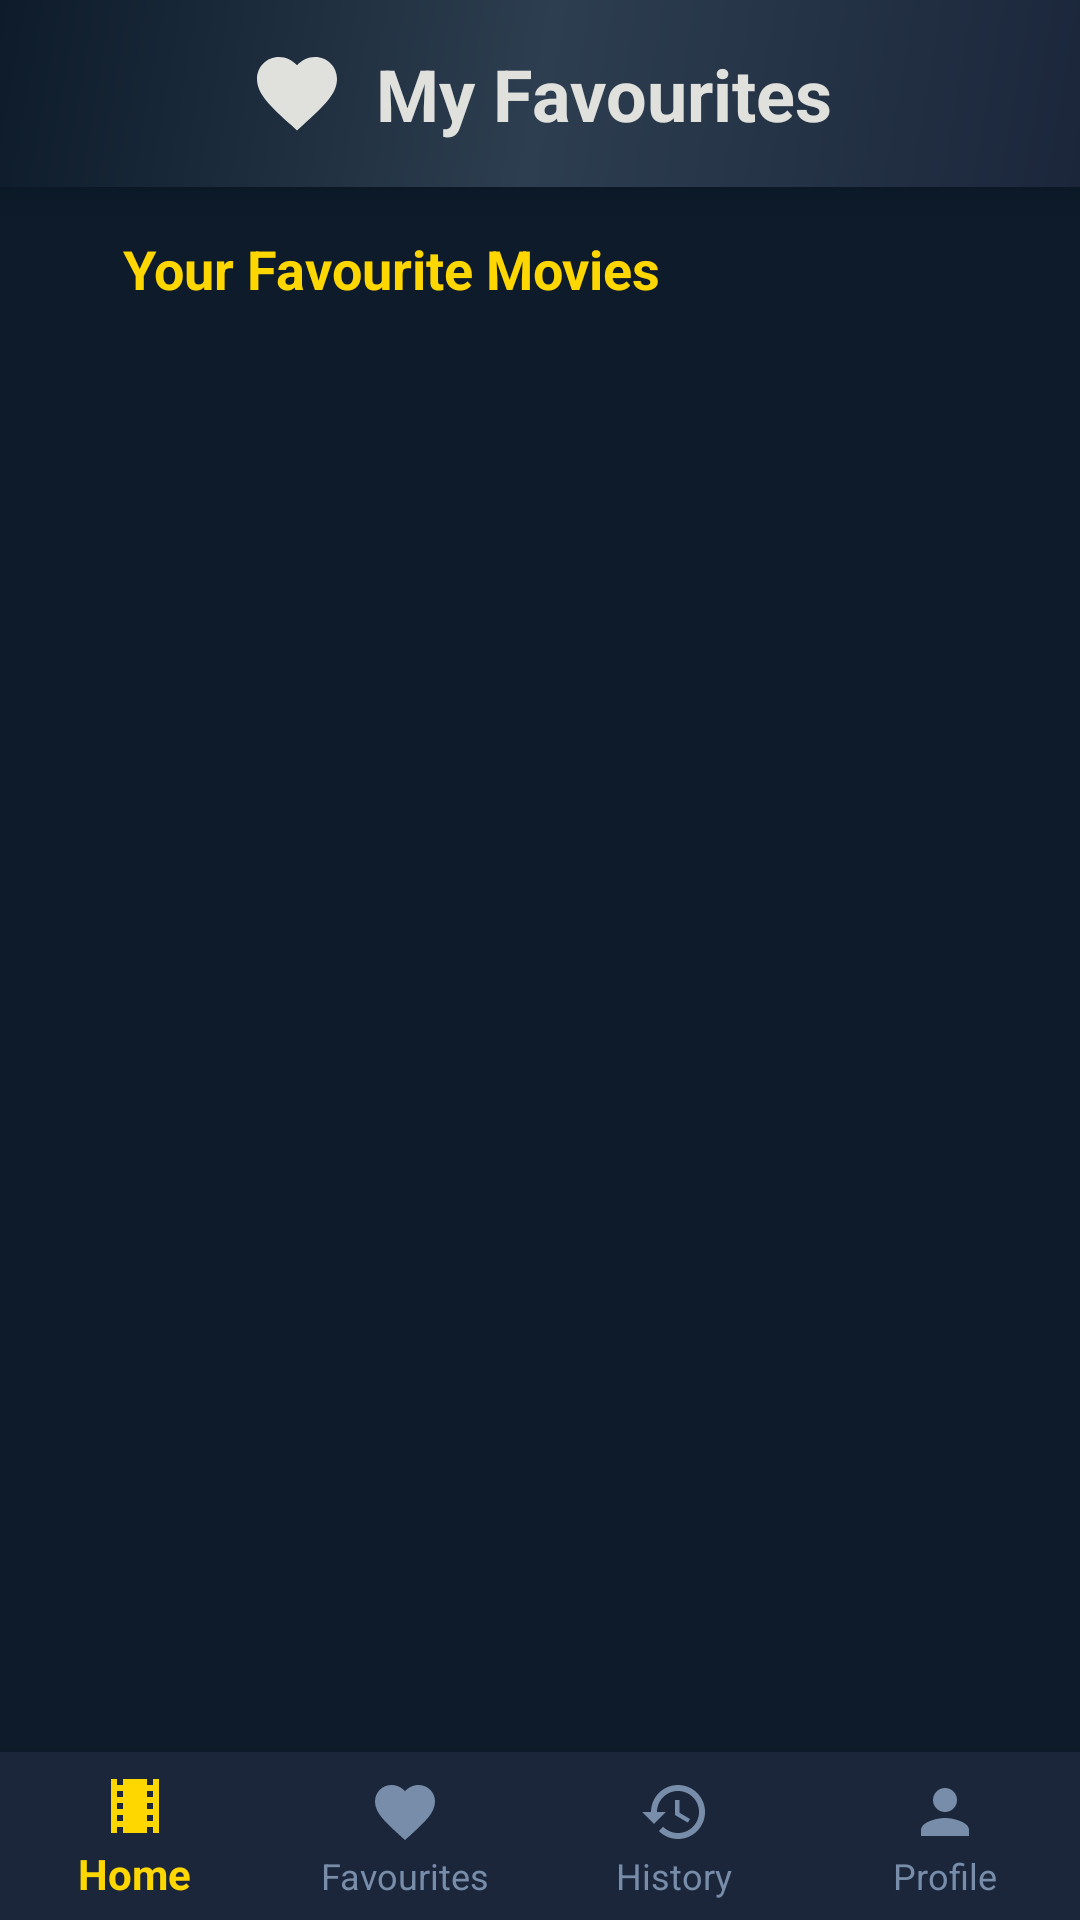

Screen size 1080*1920. Icon name, then its center in pixels as point (x, y):
favorite: point (297, 94)
